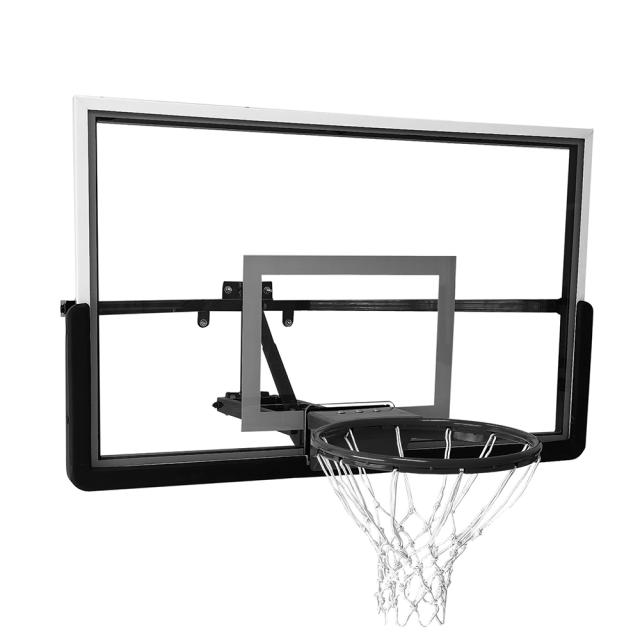backboard: (60, 69, 589, 492)
